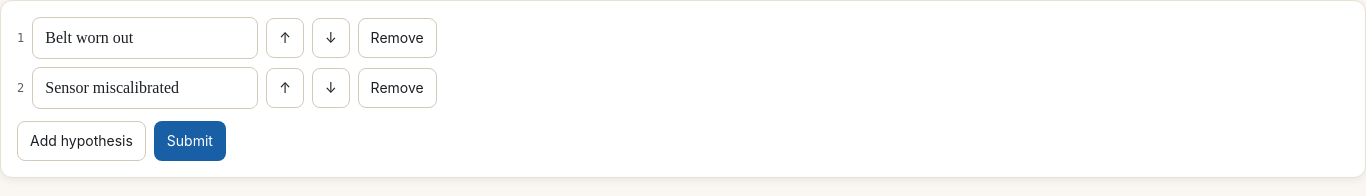
Test case: HypothesisReviewCard › removes a hypothesis from the list
Click the 1st button "Remove" at (397, 38), box [358,18,437,58]
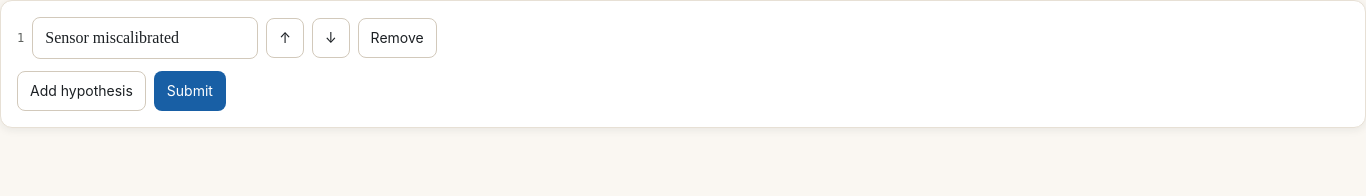
Expected: the field showing "Belt worn out" is not shown
Expected: the field showing "Sensor miscalibrated" is shown, [45,18,245,58]
